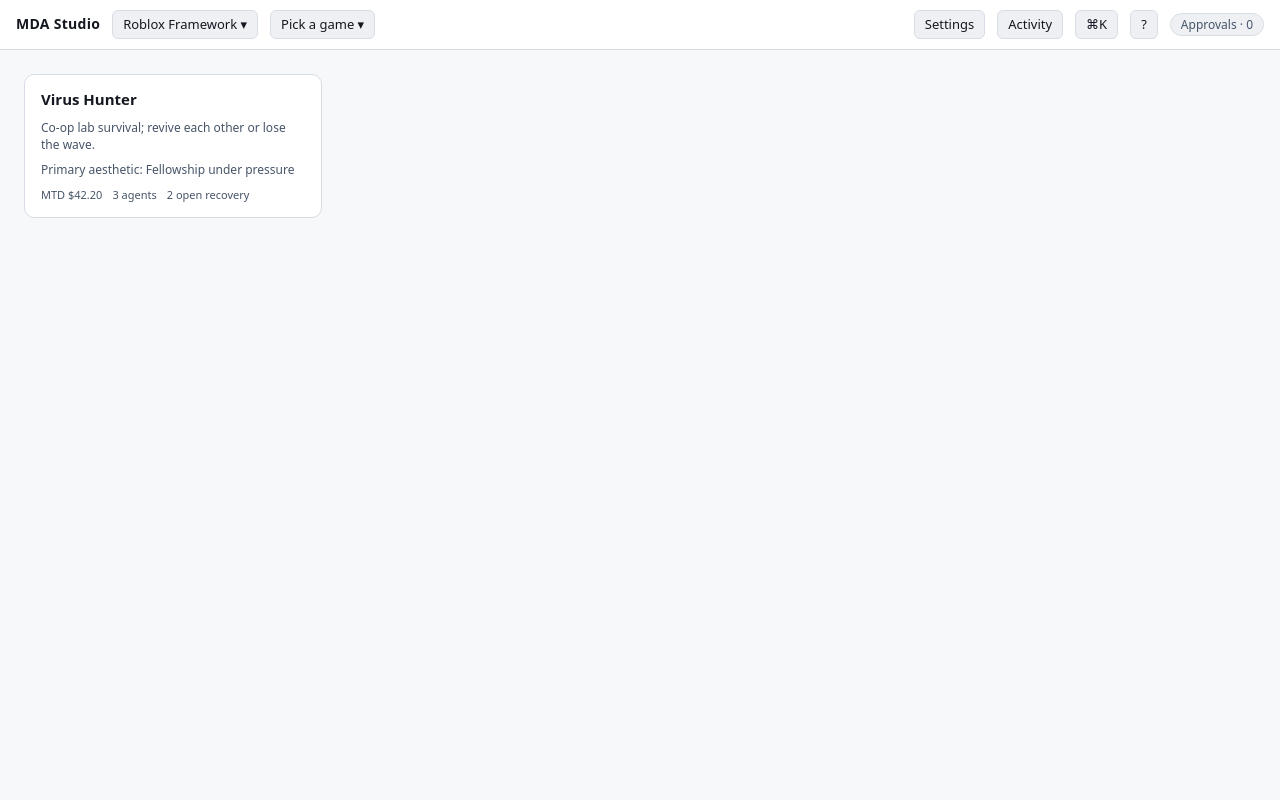
Test: App › closes the drawer when × is pressed
Click the text "Virus Hunter".
click(89, 100)  # box [41, 89, 137, 111]
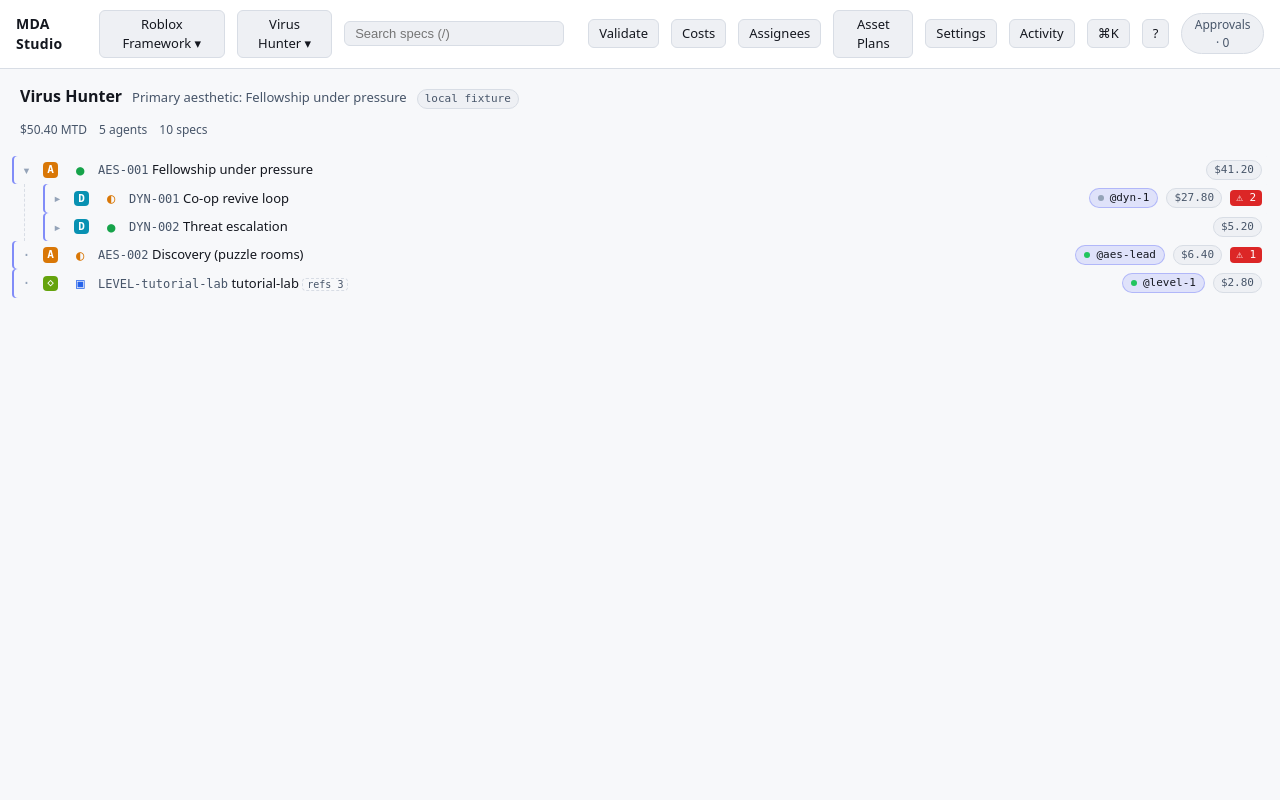
expect the list is shown: met, box [12, 156, 1268, 298]
Click the text "AES-001".
click(123, 170)  # box [98, 164, 149, 178]
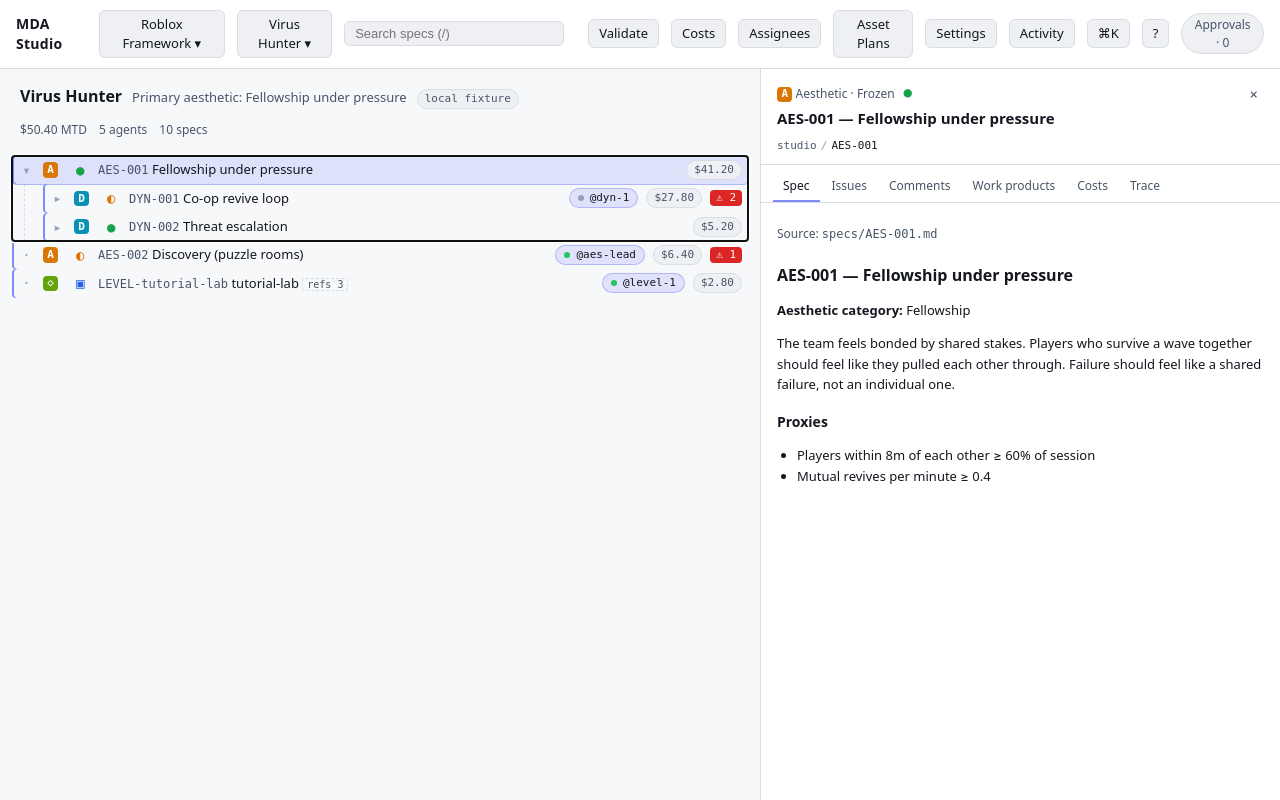
Click the button named "Close detail drawer".
click(1254, 94)  # box [1244, 83, 1264, 105]
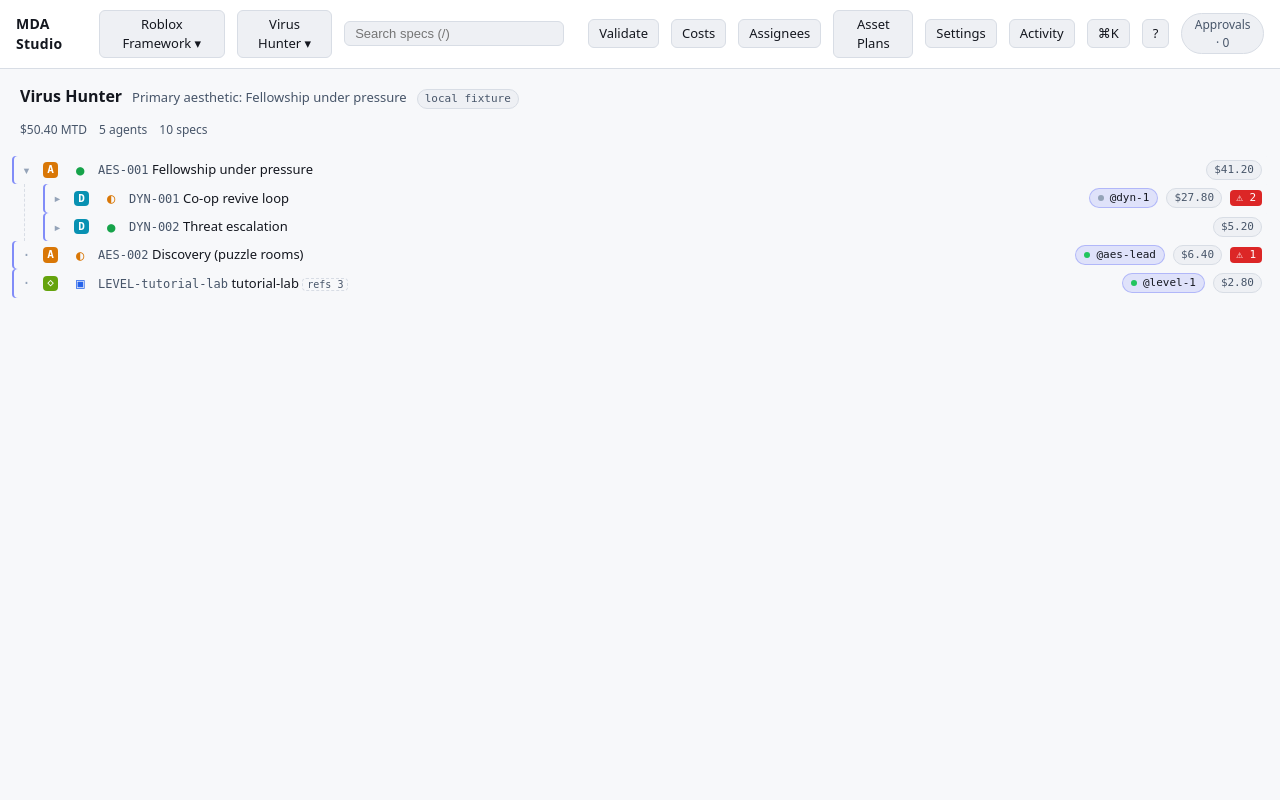
expect the dialog is gone: met
